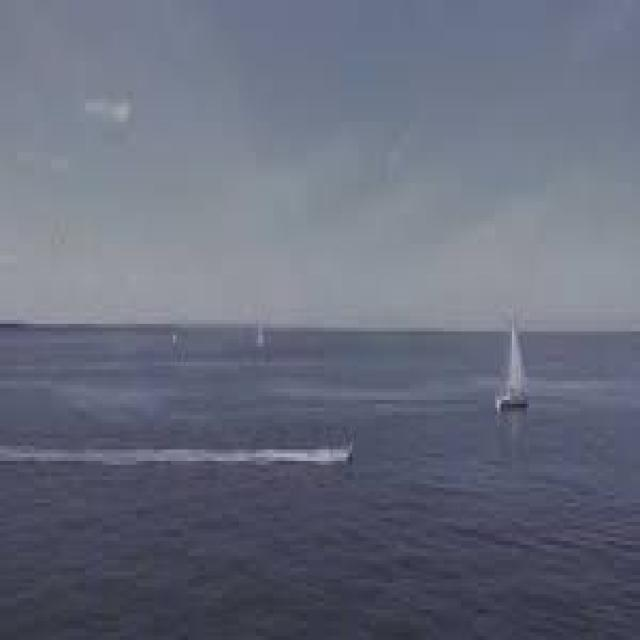sailboat: (496, 318, 538, 422)
